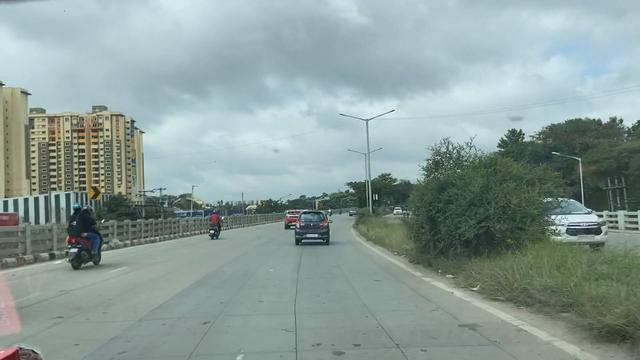LMV: (70, 200, 103, 263), (297, 211, 330, 242), (211, 211, 222, 238)
